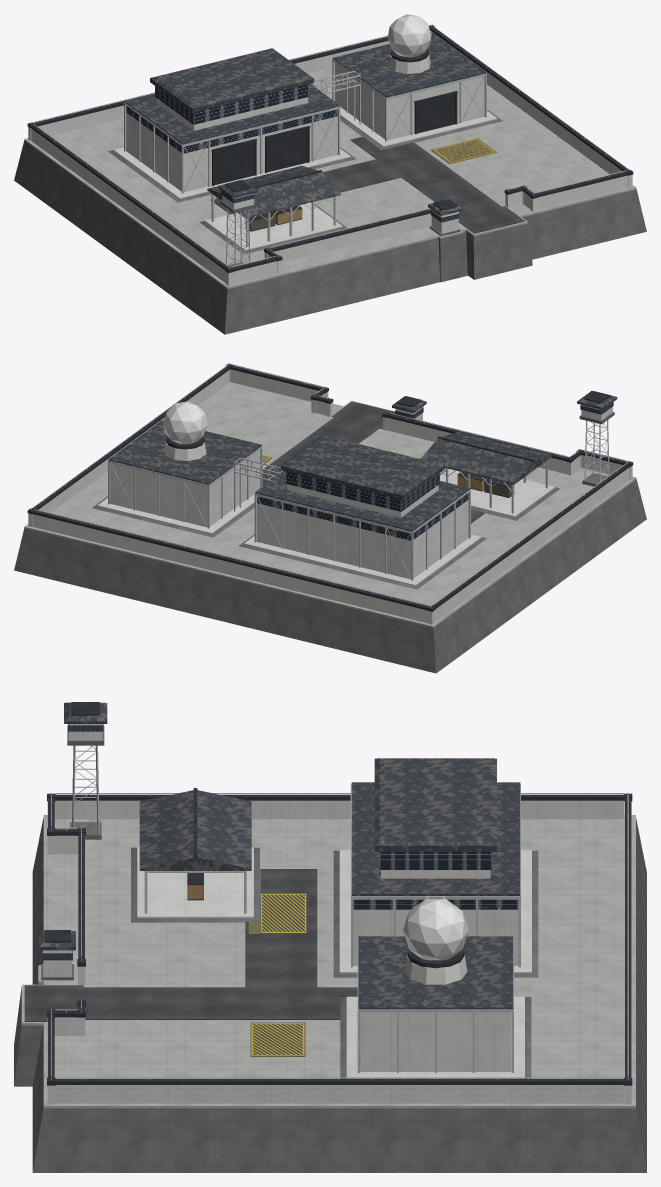
File: command_hq_lvl2.glb
The picture shows the model from 3 angles, top to bottom: view 1: azimuth 30°, elevation 25°; view 2: azimuth 150°, elevation 25°; view 3: azimuth 270°, elevation 25°; orthographic projection. The views are drawn at different scales.
Visible parts, largest first — view 1: CHQ_L2_ConcDark, CHQ_L2_ConcLight, CHQ_L2_ConcMid, CHQ_L2_RoofCorr, CHQ_L2_SteelDark, CHQ_L2_SteelTruss, CHQ_L2_Asphalt, CHQ_L2_DoorCorr, CHQ_L2_WindowDark, CHQ_L2_Radome, CHQ_L2_HatchZone; view 2: CHQ_L2_ConcLight, CHQ_L2_ConcDark, CHQ_L2_ConcMid, CHQ_L2_RoofCorr, CHQ_L2_SteelTruss, CHQ_L2_SteelDark, CHQ_L2_WindowDark, CHQ_L2_Asphalt, CHQ_L2_Radome; view 3: CHQ_L2_ConcMid, CHQ_L2_ConcDark, CHQ_L2_ConcLight, CHQ_L2_RoofCorr, CHQ_L2_Asphalt, CHQ_L2_SteelDark, CHQ_L2_SteelTruss, CHQ_L2_HatchZone, CHQ_L2_WindowDark, CHQ_L2_Radome.
Part boxes in pixels (x1,y1,x2,y2): CHQ_L2_ConcDark: [14, 109, 646, 334]; CHQ_L2_ConcLight: [28, 31, 632, 285]; CHQ_L2_ConcMid: [24, 67, 636, 289]; CHQ_L2_RoofCorr: [124, 33, 486, 218]; CHQ_L2_SteelDark: [27, 25, 633, 273]; CHQ_L2_SteelTruss: [31, 24, 629, 268]; CHQ_L2_Asphalt: [211, 136, 524, 233]; CHQ_L2_DoorCorr: [214, 94, 455, 185]; CHQ_L2_WindowDark: [126, 84, 459, 222]; CHQ_L2_Radome: [387, 14, 431, 57]; CHQ_L2_HatchZone: [431, 138, 496, 163]; CHQ_L2_ConcLight: [28, 369, 632, 624]; CHQ_L2_ConcDark: [14, 412, 646, 673]; CHQ_L2_ConcMid: [24, 382, 636, 627]; CHQ_L2_RoofCorr: [108, 391, 617, 531]; CHQ_L2_SteelTruss: [31, 363, 629, 607]; CHQ_L2_SteelDark: [27, 363, 633, 611]; CHQ_L2_WindowDark: [257, 402, 613, 540]; CHQ_L2_Asphalt: [262, 401, 484, 523]; CHQ_L2_Radome: [163, 401, 207, 444]; CHQ_L2_ConcMid: [21, 815, 635, 1108]; CHQ_L2_ConcDark: [14, 725, 646, 1172]; CHQ_L2_ConcLight: [43, 724, 631, 1104]; CHQ_L2_RoofCorr: [39, 702, 520, 1009]; CHQ_L2_Asphalt: [24, 869, 357, 1021]; CHQ_L2_SteelDark: [44, 702, 632, 1085]; CHQ_L2_SteelTruss: [51, 745, 628, 1080]; CHQ_L2_HatchZone: [248, 893, 306, 1056]; CHQ_L2_WindowDark: [42, 724, 518, 960]; CHQ_L2_Radome: [403, 899, 468, 960].
Size of the model in its own units: 104 by 32.47 by 92.2.
Materials: 13 (13 with a texture image).
